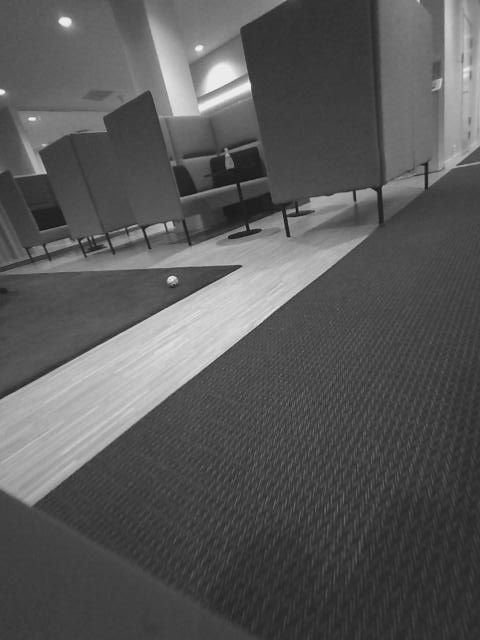dogtoy: (163, 271, 181, 289)
